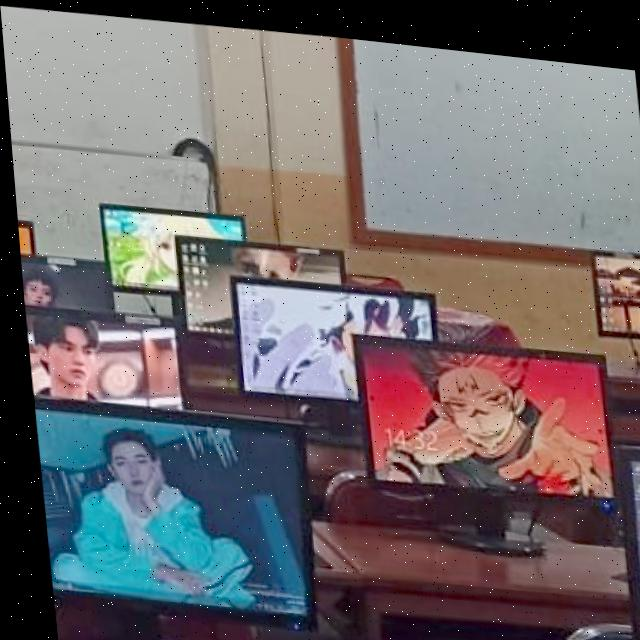onscreen: (27, 399, 303, 612), (352, 329, 604, 482), (227, 272, 430, 393), (173, 232, 340, 328), (20, 306, 172, 405), (97, 202, 238, 288), (609, 434, 640, 629), (16, 256, 105, 310), (590, 243, 640, 323)
